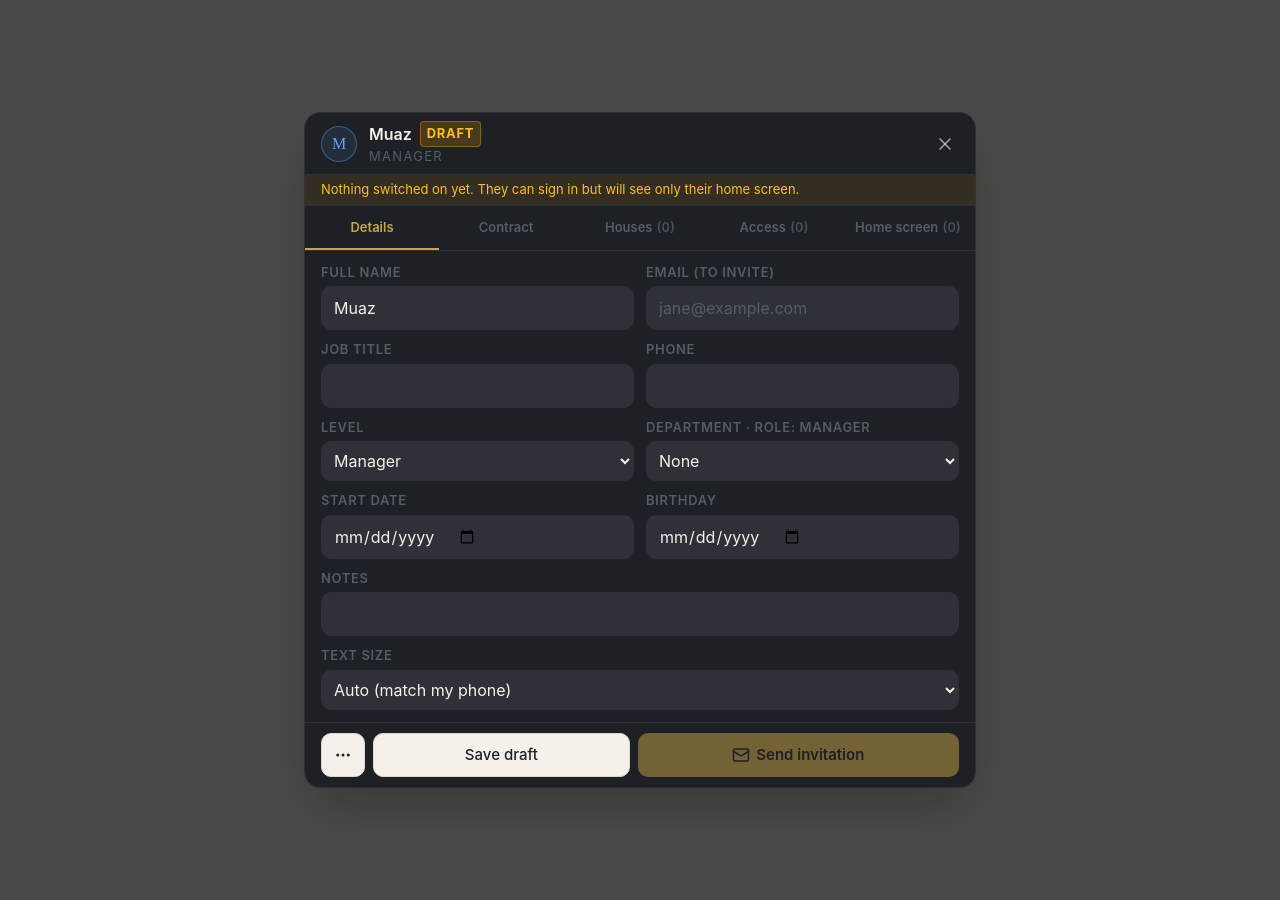
Test case: contract tab › managers see only the contract fields, blank by default
Click the tab "Contract": (506, 228) [439, 206, 573, 250]
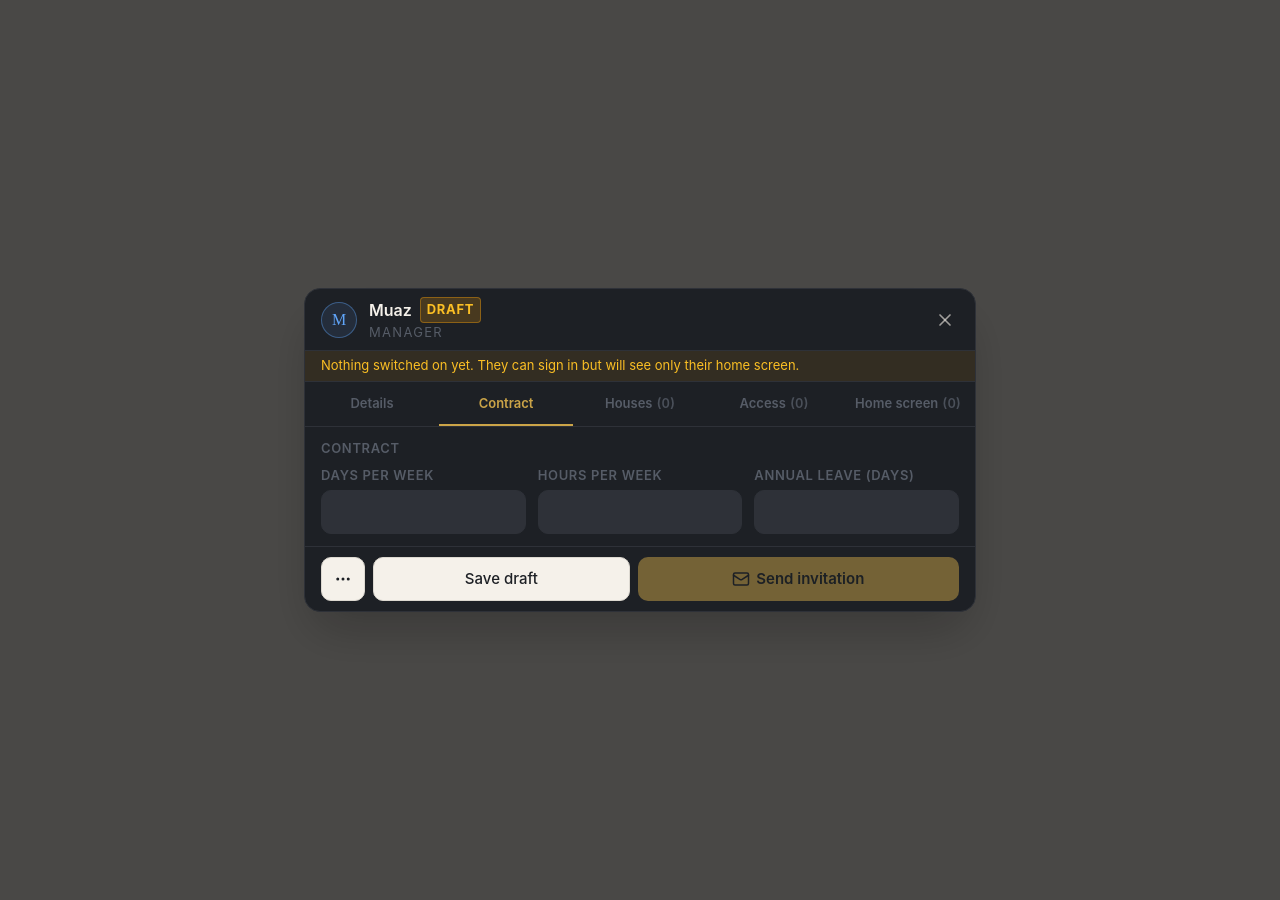
Expected: the text "Days per week" is shown, [321, 467, 434, 483]
Expected: the text "Hours per week" is shown, [538, 467, 662, 483]
Expected: the text "Annual leave (days)" is shown, [754, 467, 914, 483]
